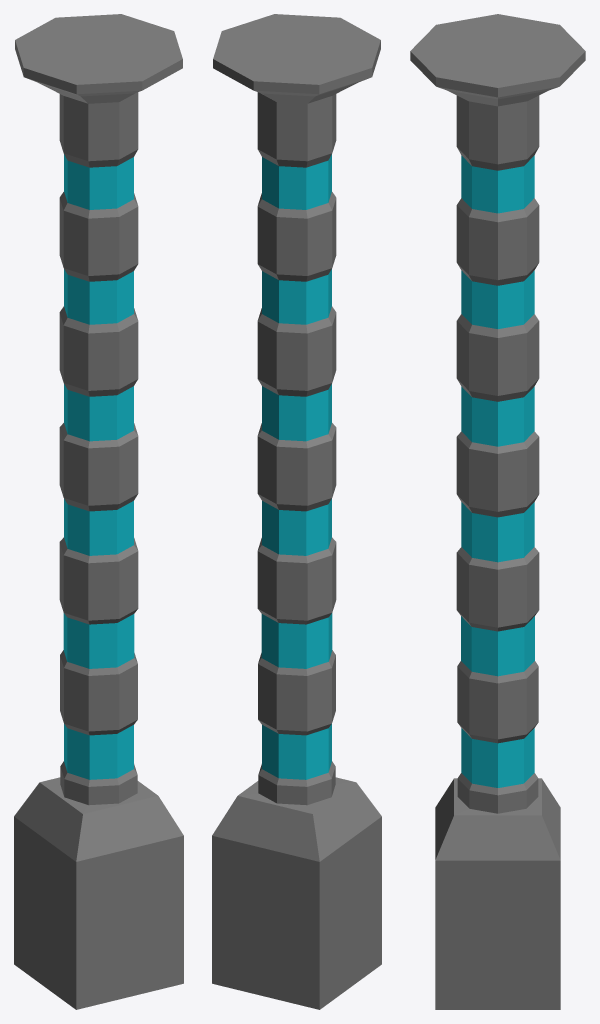
File: Pillar_no_uni.fbx
3 views of the same model, side by side, from view 1: azimuth 30°, elevation 25°; view 2: azimuth 150°, elevation 25°; view 3: azimuth 270°, elevation 25° (orthographic).
Parts seen in each view (by area): view 1: Pillar_body, Pillar_light; view 2: Pillar_body, Pillar_light; view 3: Pillar_body, Pillar_light.
Part boxes in pixels (x1,y1,x2,y2): Pillar_body: [14, 14, 183, 1009]; Pillar_light: [63, 154, 134, 779]; Pillar_body: [212, 14, 381, 1009]; Pillar_light: [261, 154, 332, 779]; Pillar_body: [410, 14, 585, 1009]; Pillar_light: [461, 155, 534, 787].
Size of the model in its own units: 42.56 by 250 by 42.56.
